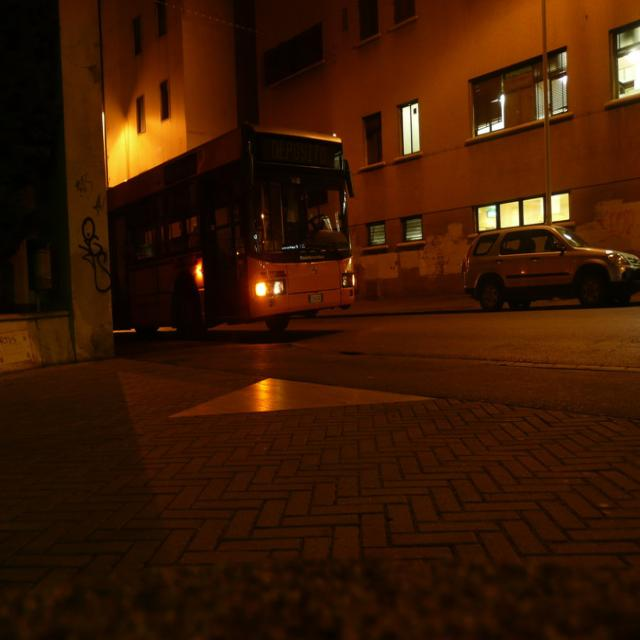Bus: (100, 109, 364, 356)
car: (459, 216, 640, 320)
